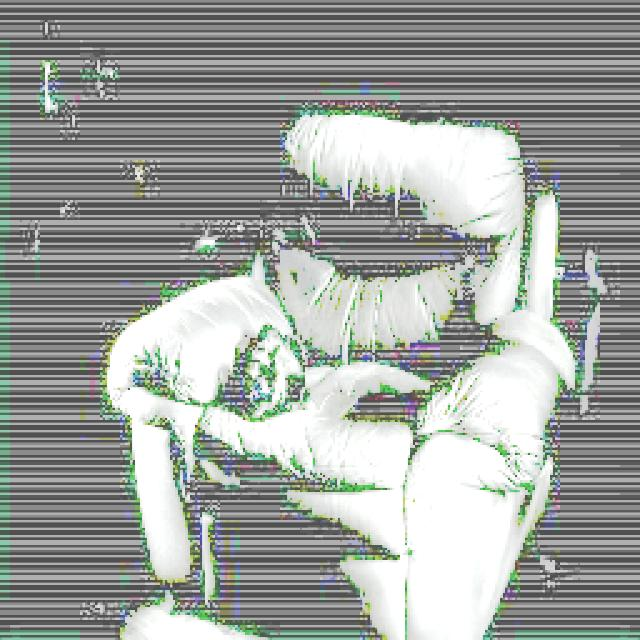cat: (196, 291, 345, 455)
